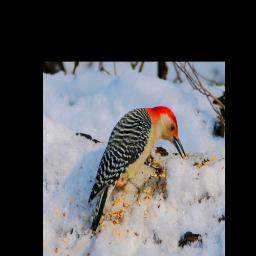Woodpecker: (86, 105, 186, 239)
